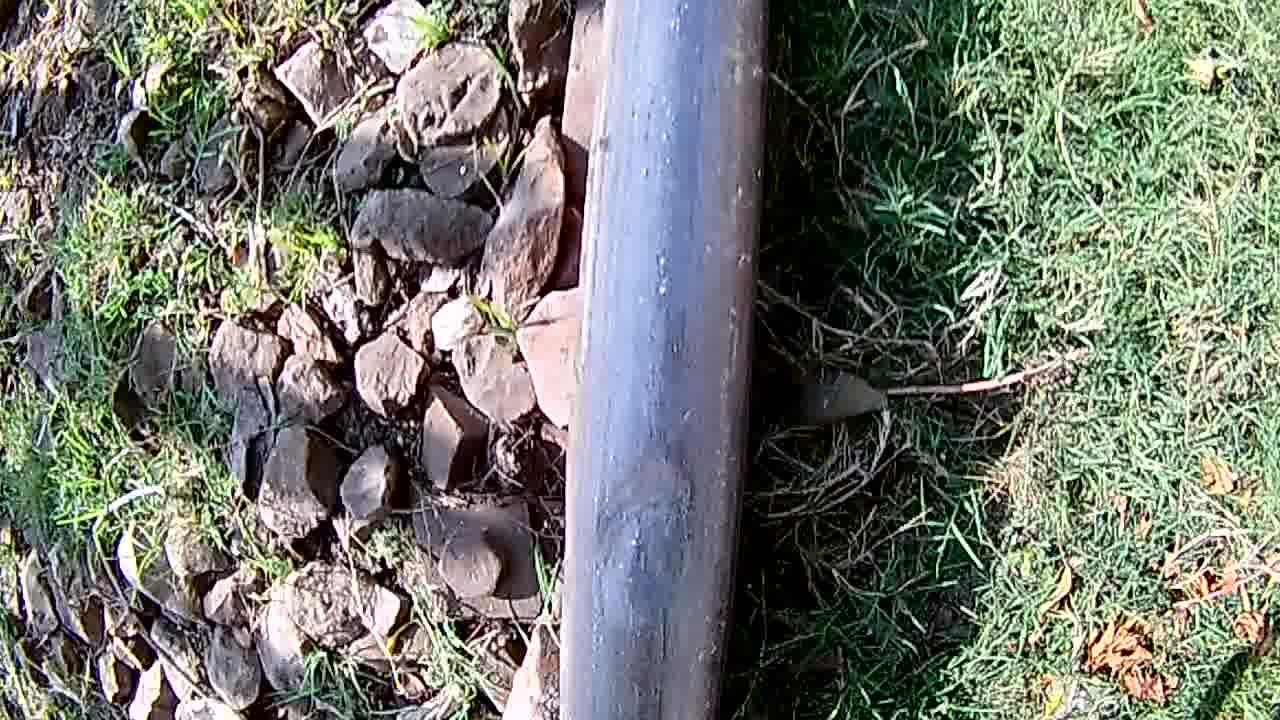bolt_missing: (560, 404, 741, 672)
